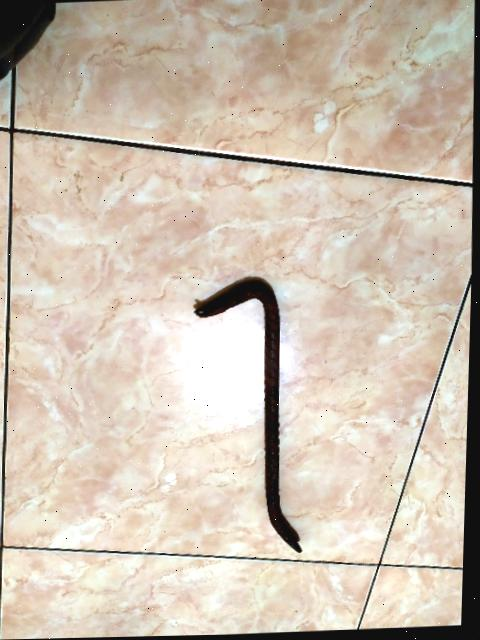crow bar: (189, 279, 320, 564)
